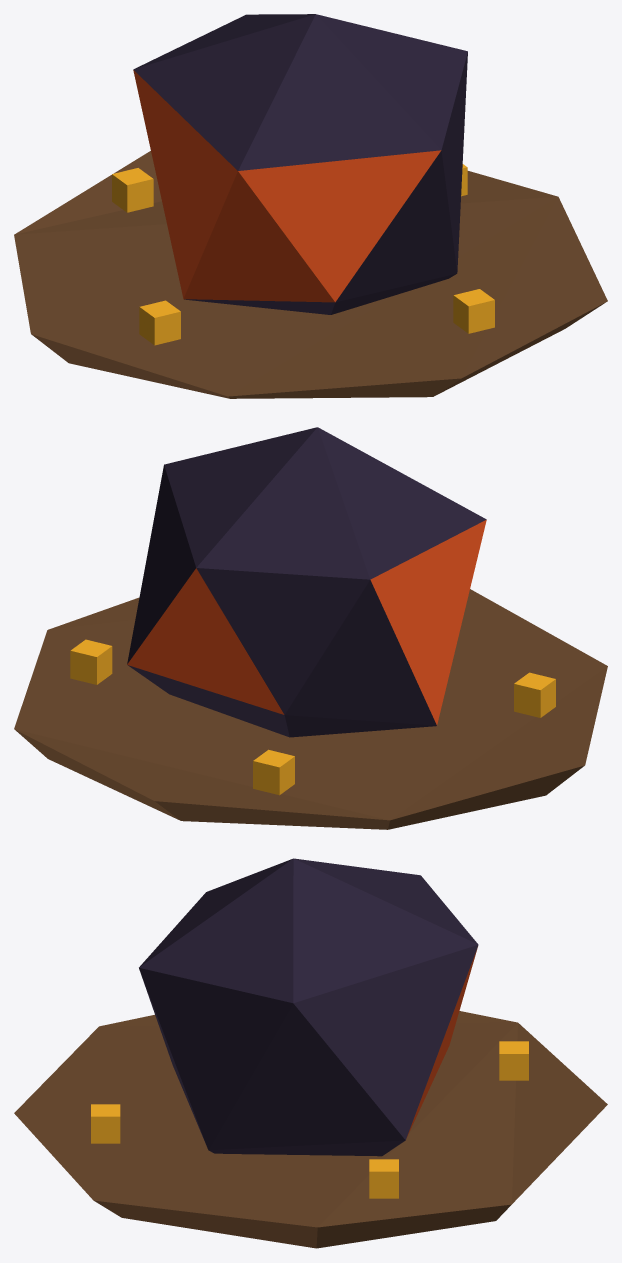
The model's file is Meteorite.fbx.
The picture shows the model from 3 angles, top to bottom: view 1: azimuth 30°, elevation 25°; view 2: azimuth 150°, elevation 25°; view 3: azimuth 270°, elevation 25°; orthographic projection. The views are drawn at different scales.
Visible parts, largest first — view 1: Meteorite; view 2: Meteorite; view 3: Meteorite.
Boxes of the visible parts, x1,y1,x2,y2 form: Meteorite: (14, 14, 607, 398); Meteorite: (14, 427, 607, 829); Meteorite: (14, 858, 607, 1248).
Bounding box in the file's own units: 6.04 × 3.83 × 6.01.
Materials: 1 (1 with a texture image).
